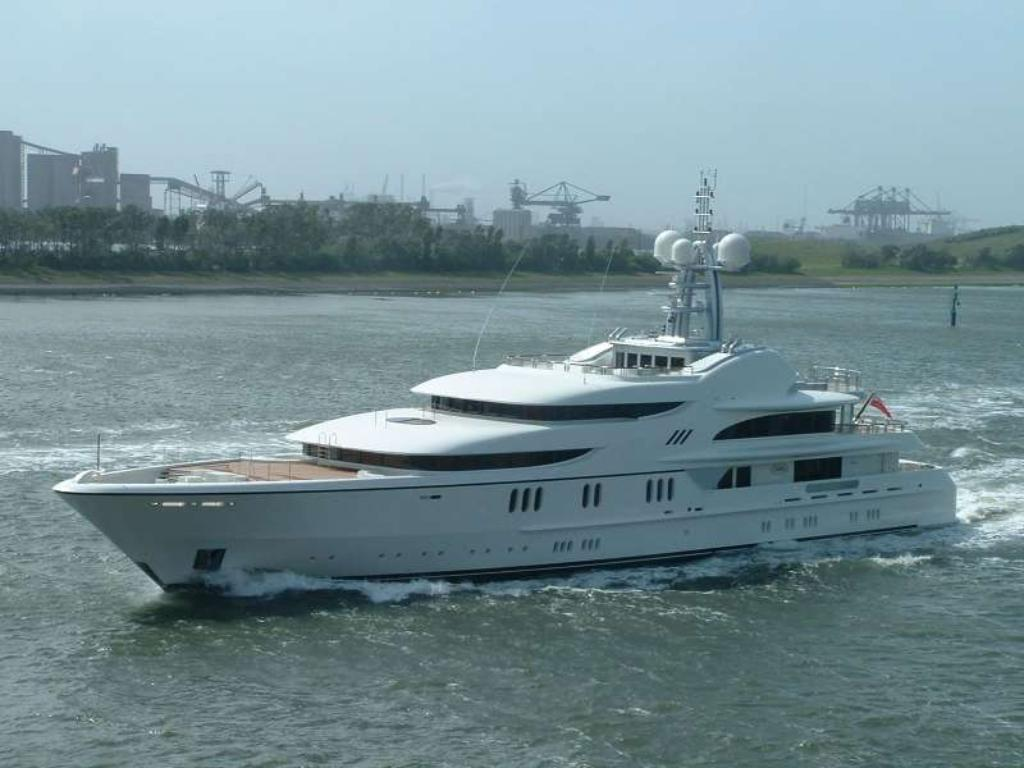PassengerShip: (36, 168, 960, 584)
